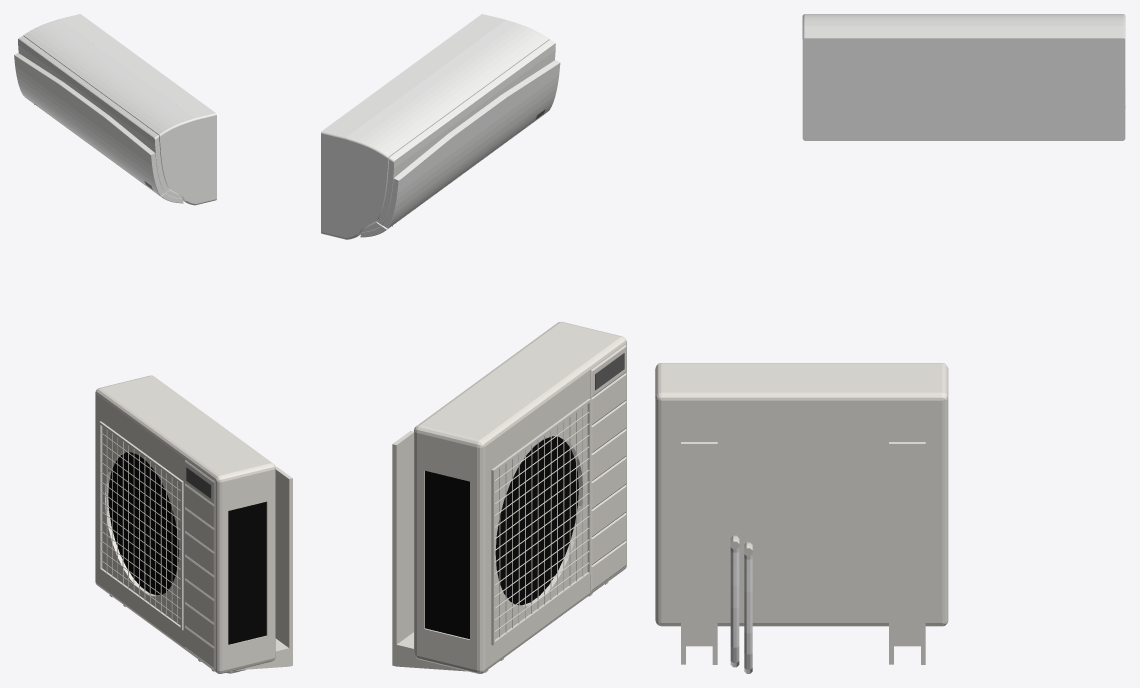
3 views of the same model, side by side, from view 1: azimuth 30°, elevation 25°; view 2: azimuth 150°, elevation 25°; view 3: azimuth 270°, elevation 25° (orthographic). The views are drawn at different scales.
Visible parts, largest first — view 1: mesh_id12, mesh_id6, mesh_id13; view 2: mesh_id12, mesh_id6, mesh_id13, mesh_id15; view 3: mesh_id12, mesh_id6, mesh_id14.
Part boxes in pixels (<box>): mesh_id12: <box>95,375,292,673</box>; mesh_id6: <box>14,14,216,205</box>; mesh_id13: <box>108,452,266,644</box>; mesh_id12: <box>392,321,626,673</box>; mesh_id6: <box>321,14,560,239</box>; mesh_id13: <box>425,436,578,639</box>; mesh_id15: <box>595,353,624,390</box>; mesh_id12: <box>655,363,948,664</box>; mesh_id6: <box>802,14,1125,140</box>; mesh_id14: <box>730,547,752,673</box>.
Size of the model in its own units: 0.0907 by 0.512 by 0.343.
8 materials, 8 textured.
